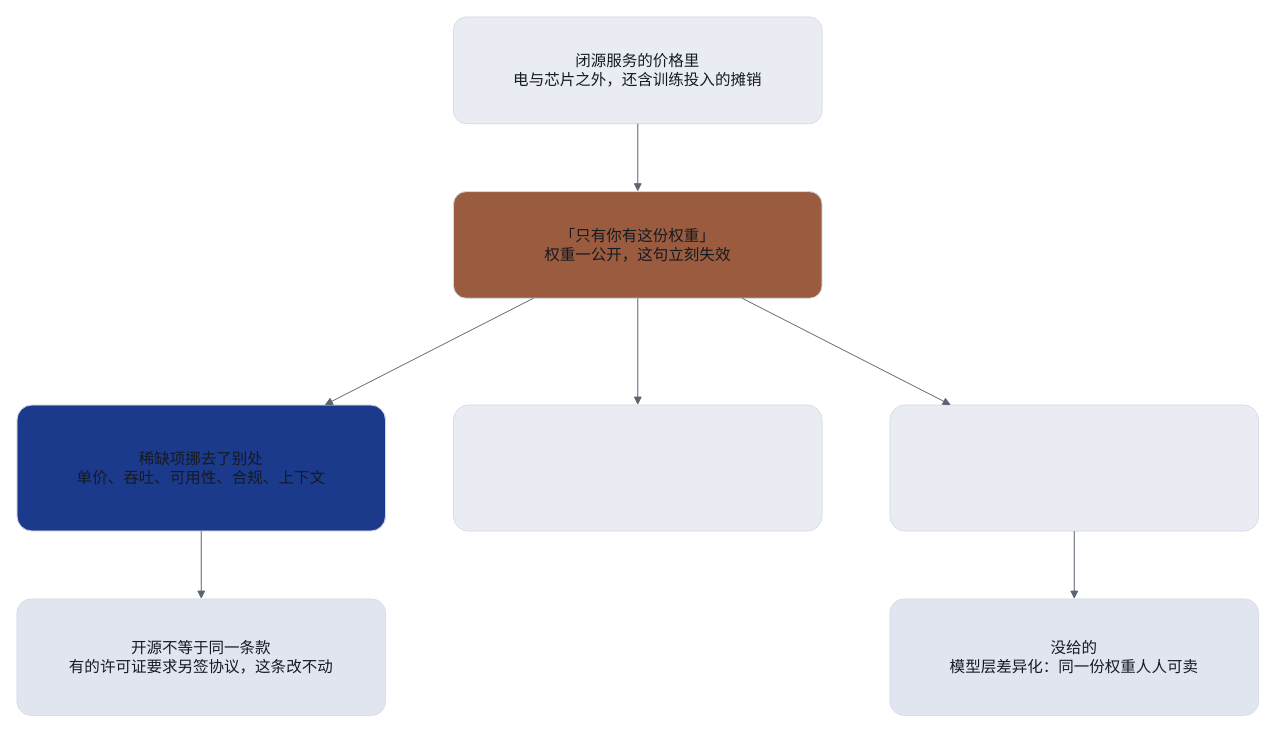
This 1276x732 diagram has some shape labels left out. Here are the shapes that lost their labels. From the top down, the centre of each, then its label:
[637,467]: 最肯为延迟付钱的客群 公开用量统计里，开源的大头不是它
[1074,467]: 省掉的 自训前沿模型的投入与失败风险；上架周期
